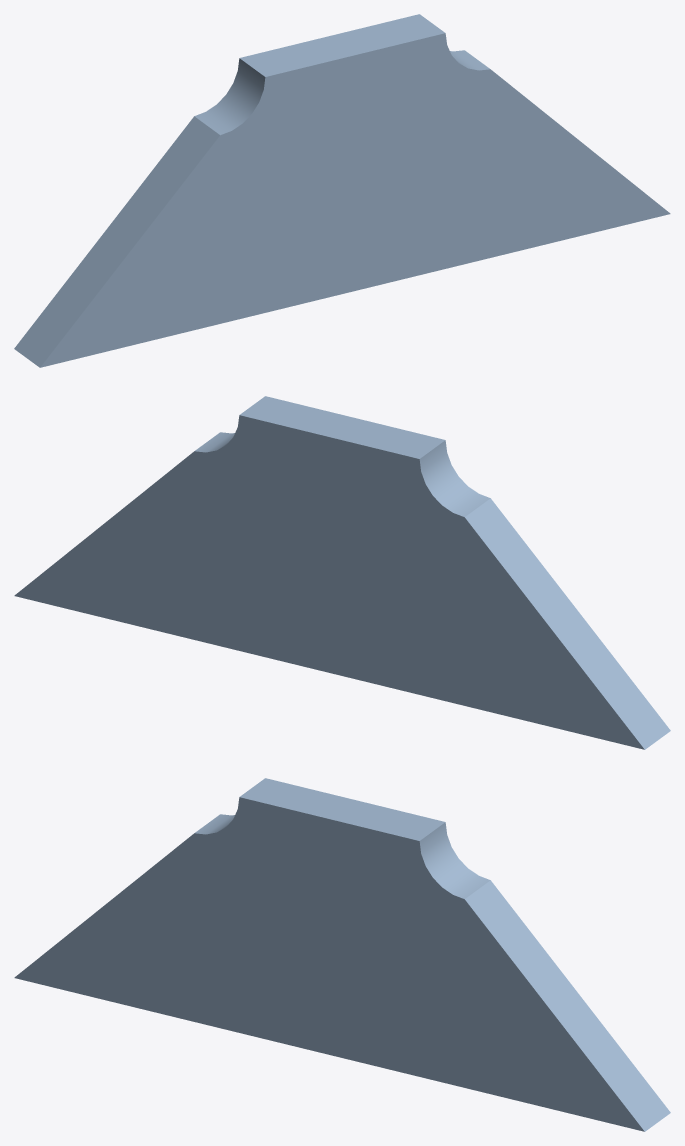
The model's file is skirtType.glb.
The picture shows the model from 3 angles, top to bottom: view 1: azimuth 30°, elevation 25°; view 2: azimuth 150°, elevation 25°; view 3: azimuth 330°, elevation 25°; orthographic projection.
Visible parts, largest first — view 1: generated(Clone); view 2: generated(Clone); view 3: generated(Clone).
Boxes of the visible parts, x1,y1,x2,y2 form: generated(Clone): (14,14,670,367); generated(Clone): (14,396,670,749); generated(Clone): (14,778,670,1131).
Size of the model in its own units: 14 by 5 by 1.
